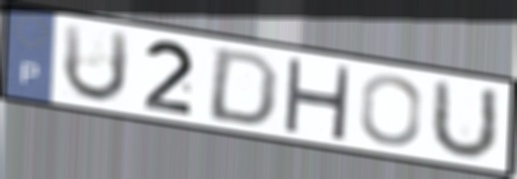2: (143, 38, 196, 117)
D: (202, 45, 283, 128)
H: (280, 54, 354, 143)
O: (357, 73, 425, 148)
U: (426, 76, 501, 162), (59, 20, 133, 105)
